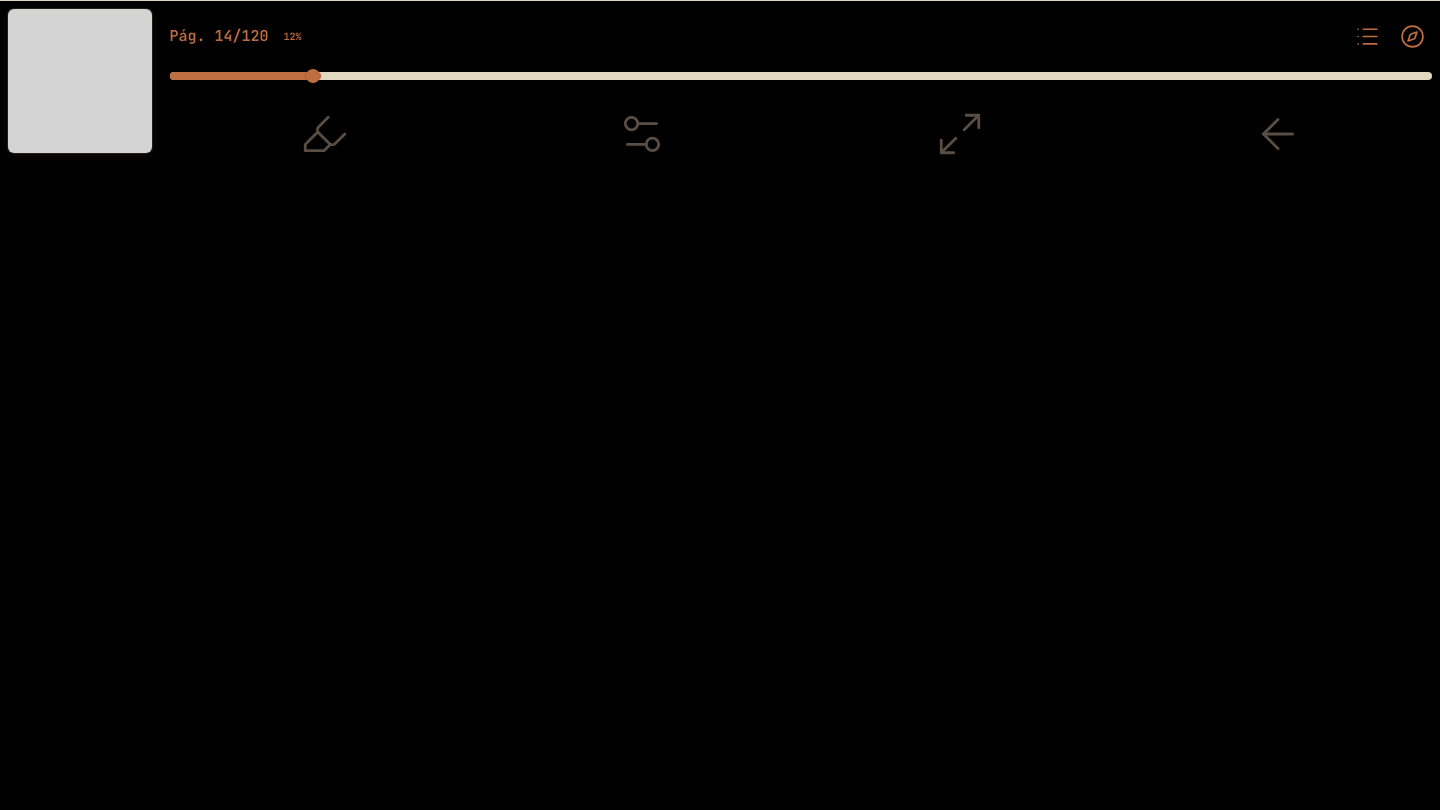
Scenario: Reader Components › ReaderBottomBar › exibe localização diretamente na barra mobile e abre configurações ao clicar no botão de configurações
The width and height of the screenshot is (1440, 810).
Clicar no botão de configurações abre o popover
Click the button with id "btn-appearance-toggle".
click(642, 134)  # box [488,104,796,164]
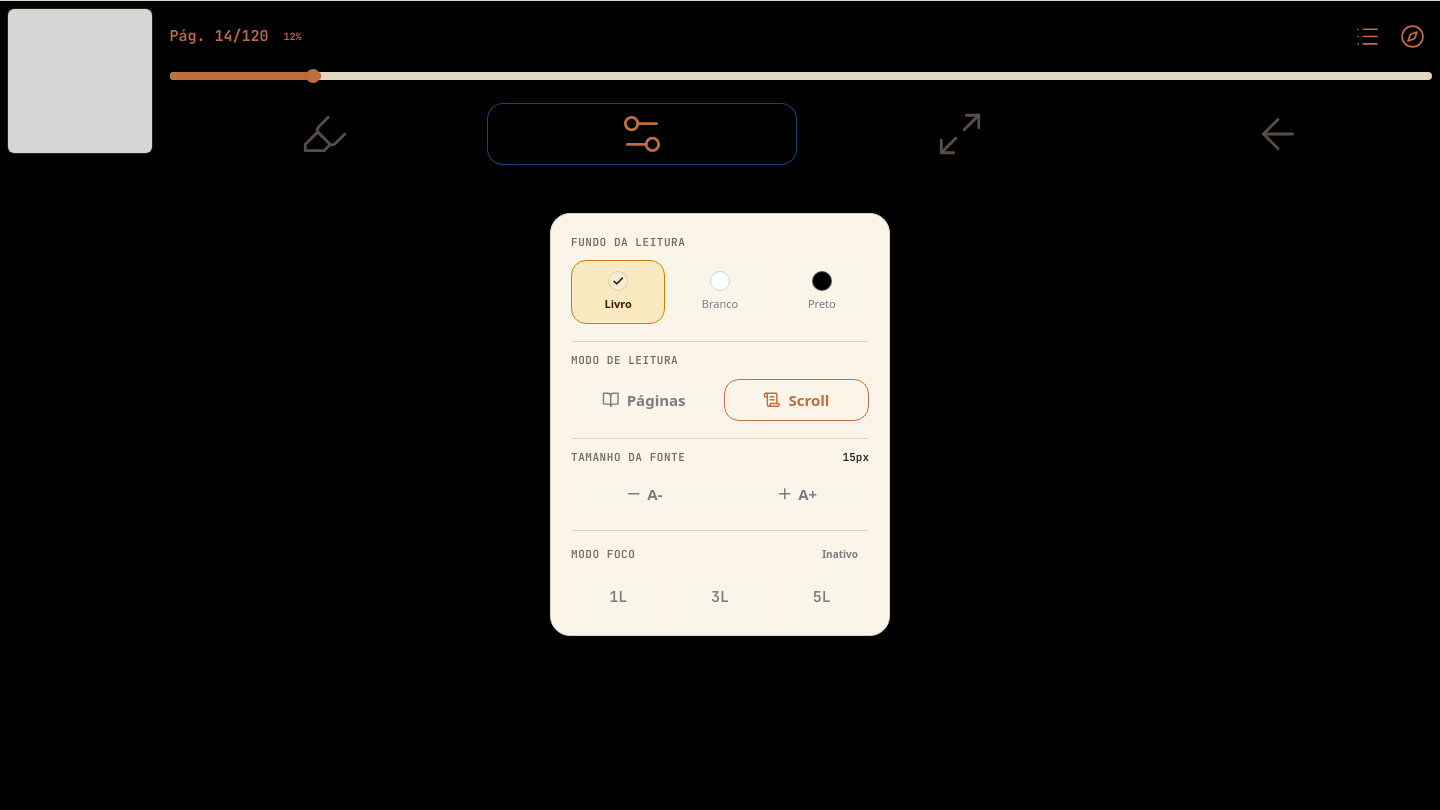
Expected: the dialog is shown, [550,212,890,636]
